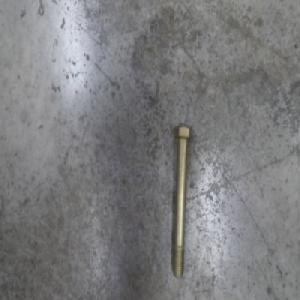Bolt: (171, 123, 193, 280)
